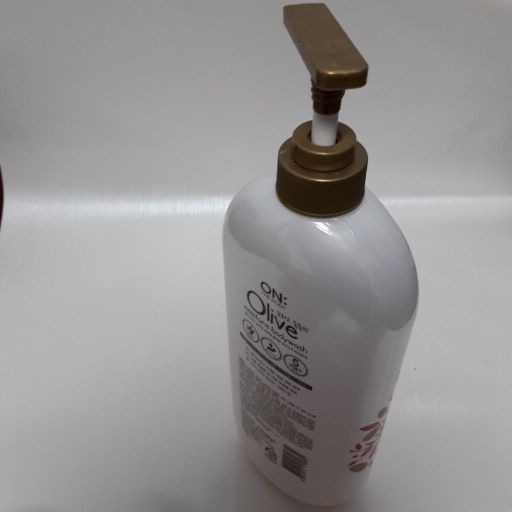Plastic_3: (216, 4, 418, 505)
